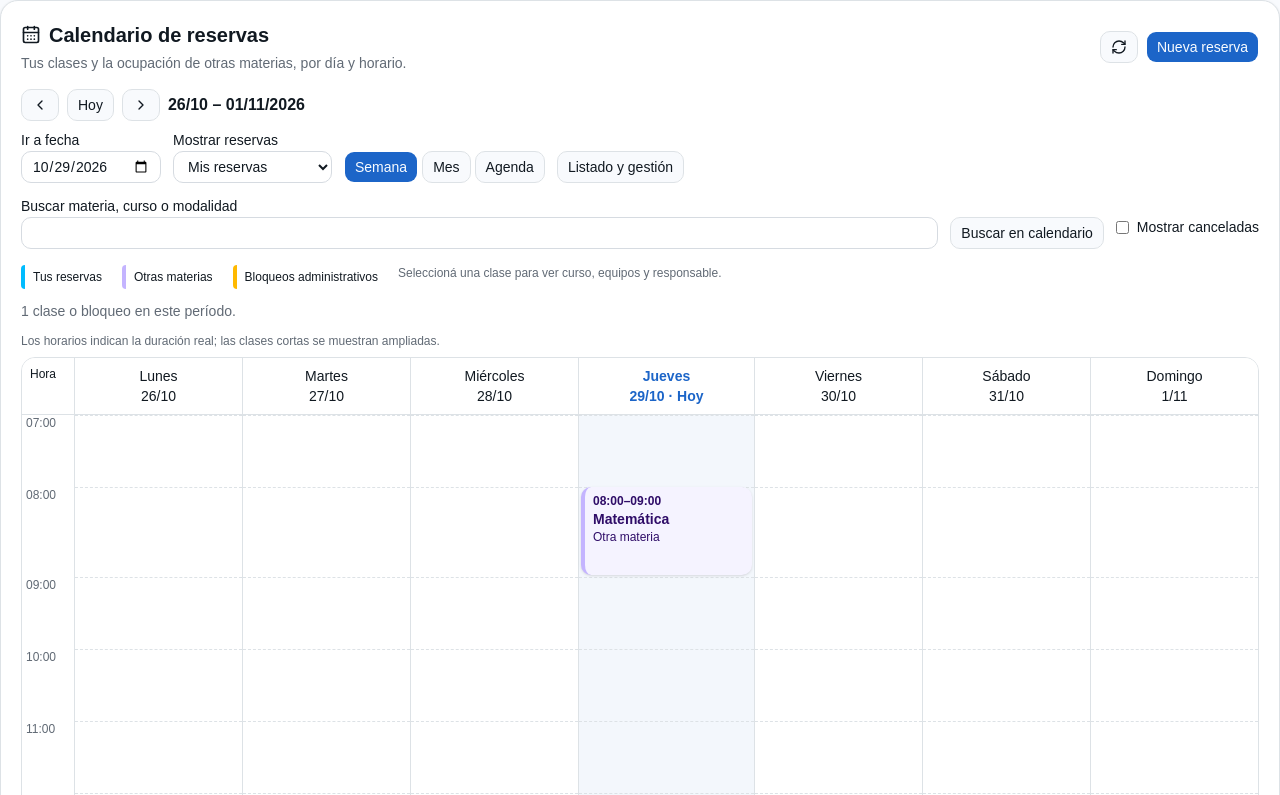
otras materias se consultan sin ofrecer gestión y se cierra el detalle
The width and height of the screenshot is (1280, 795).
Click the button "08:00–09:00 Matemática Otra materia": (666, 531) [581,487,752,575]
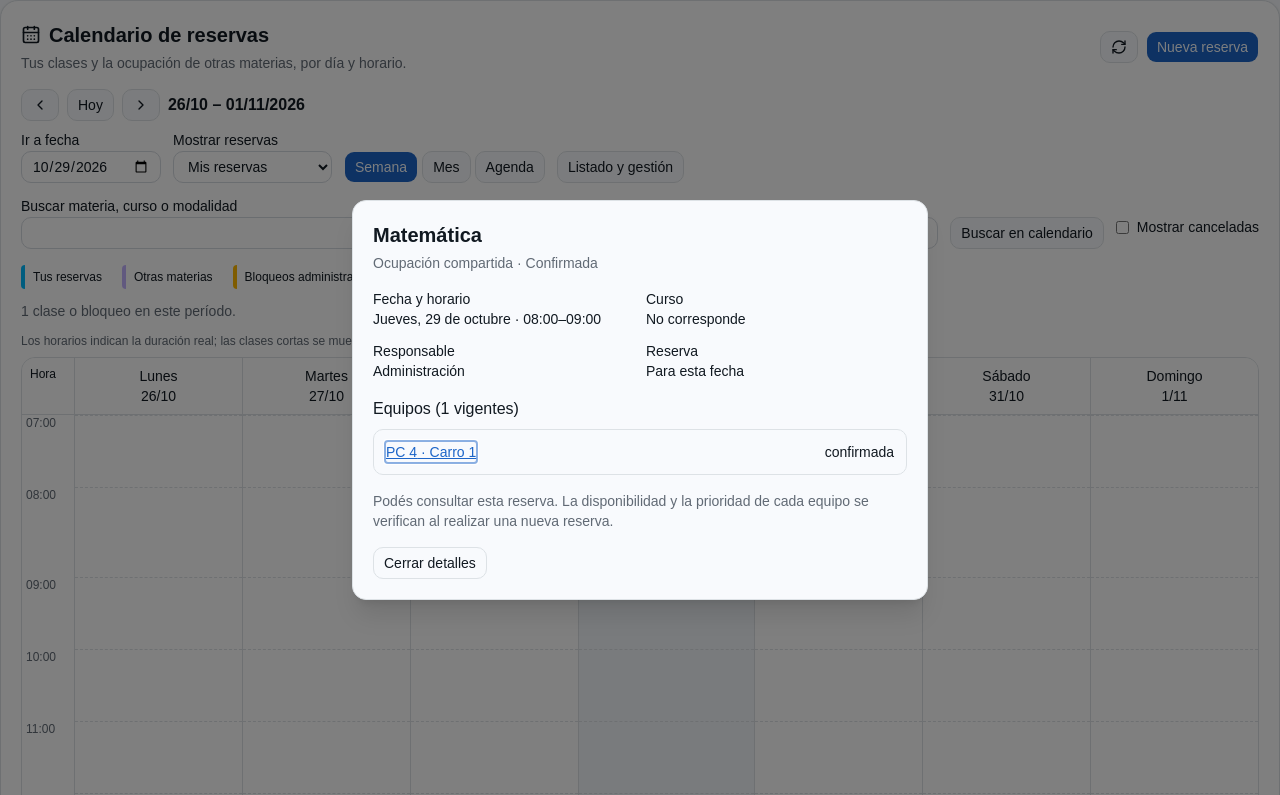
Check: the link "PC 4 · Carro 1" is shown, box [386,442,476,462]
Click the button "Cerrar detalles": (430, 563) [373,547,487,579]
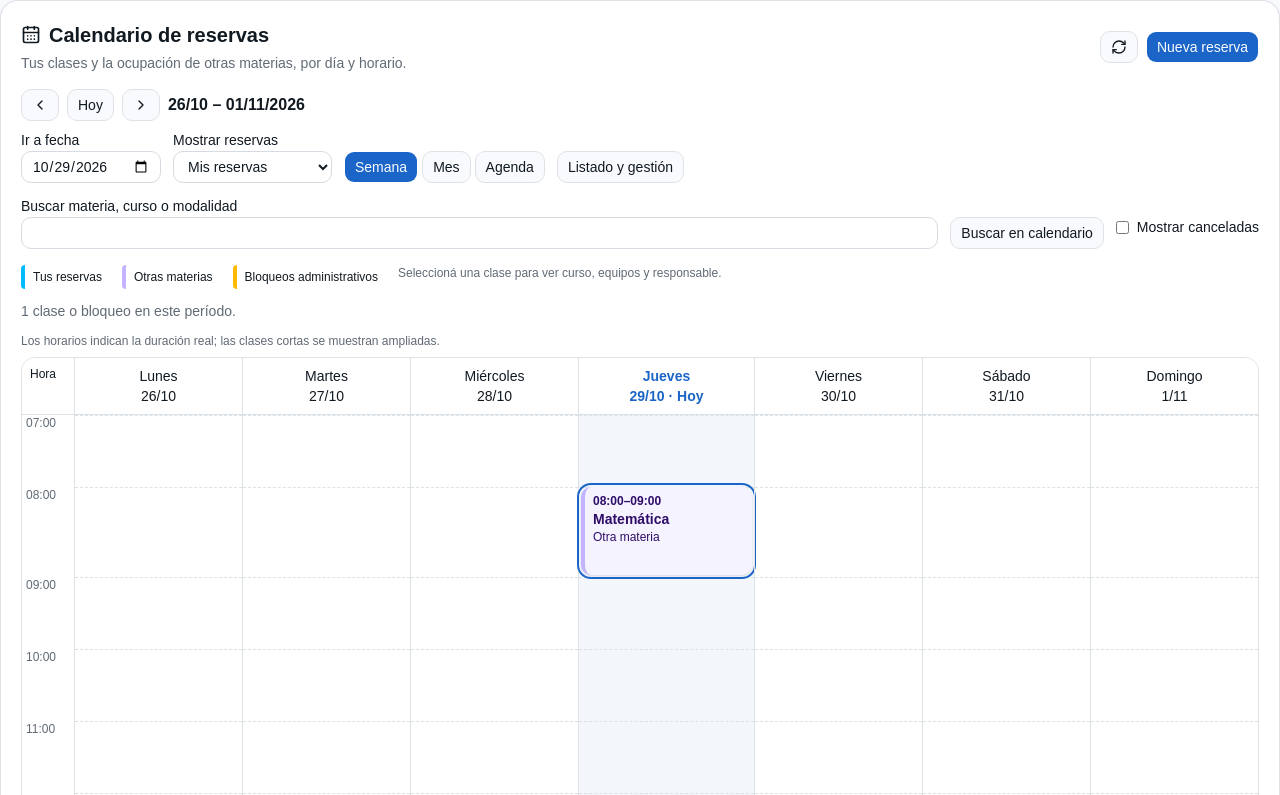
Check: the dialog is gone
